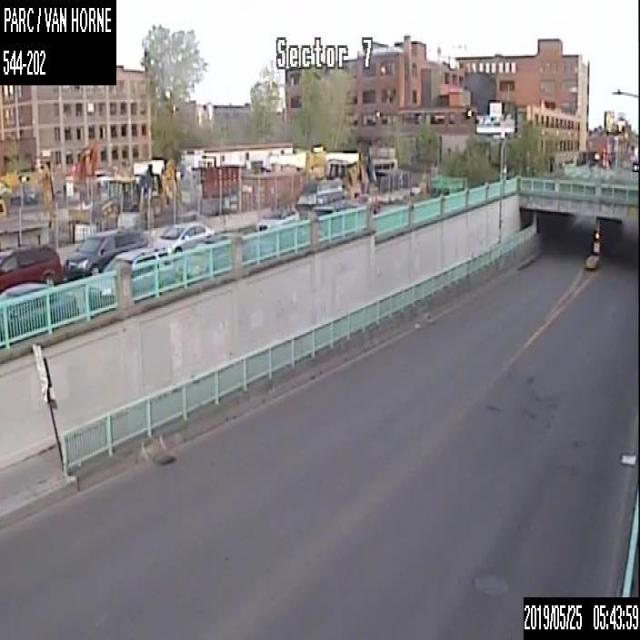vehicle: (83, 246, 175, 312), (0, 281, 77, 347), (65, 228, 148, 279), (178, 230, 247, 285), (0, 243, 63, 292), (312, 199, 363, 238), (154, 221, 214, 253), (254, 204, 299, 231)
